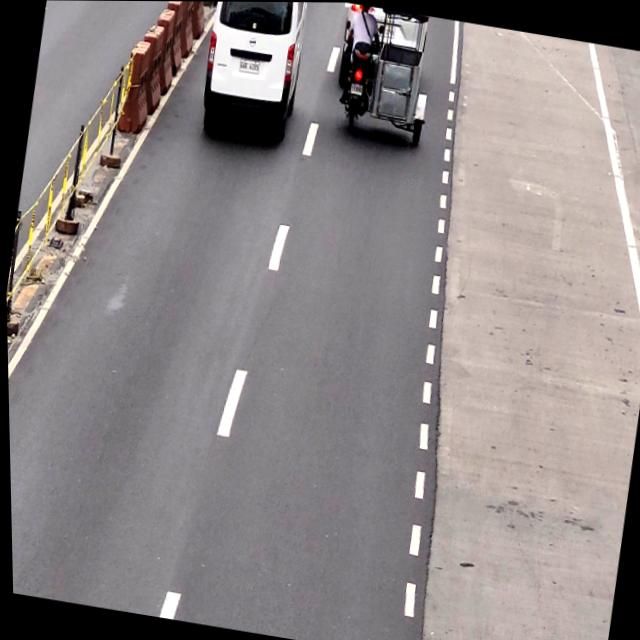Car: (197, 1, 316, 143)
Tricycle: (332, 3, 446, 143)
